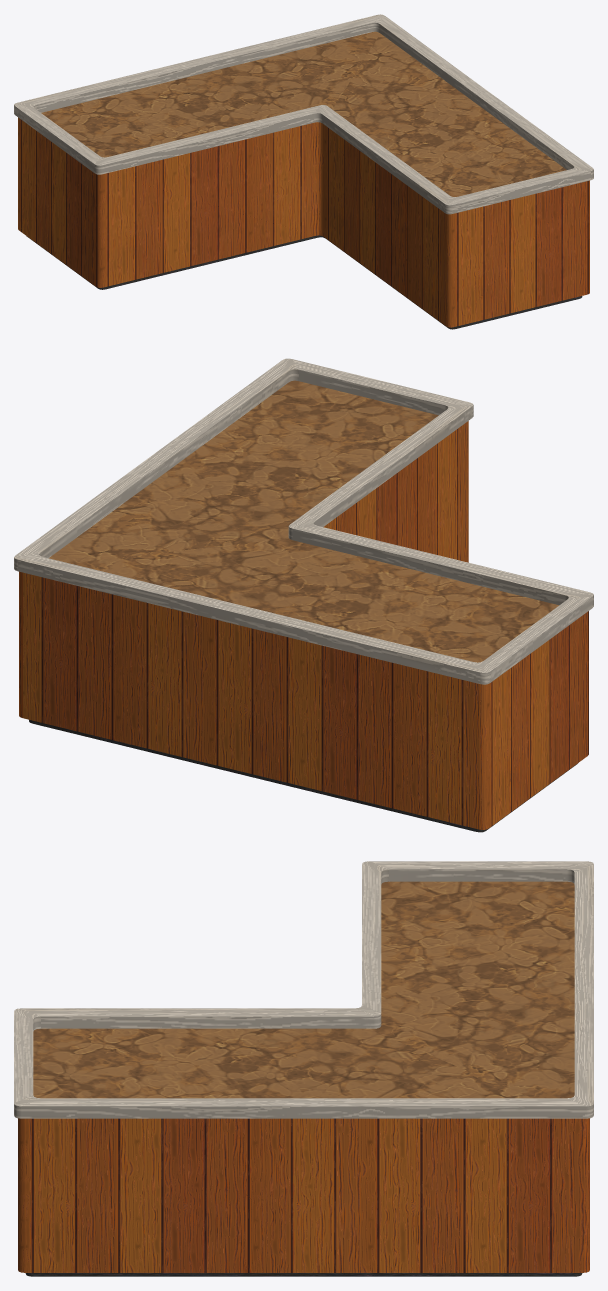
The model's file is StreetPlanter05_4.FBX.
3 renders of one model, top to bottom at view 1: azimuth 30°, elevation 25°; view 2: azimuth 150°, elevation 25°; view 3: azimuth 270°, elevation 25°, orthographic. The views are drawn at different scales.
Visible parts, largest first — view 1: StreetPlanter05_4; view 2: StreetPlanter05_4; view 3: StreetPlanter05_4.
Part boxes in pixels (x1,y1,x2,y2): StreetPlanter05_4: (14, 14, 593, 329); StreetPlanter05_4: (14, 358, 593, 832); StreetPlanter05_4: (14, 861, 593, 1276).
Size of what is drawn, in the model's own units: 1.8 by 0.6 by 1.8.
